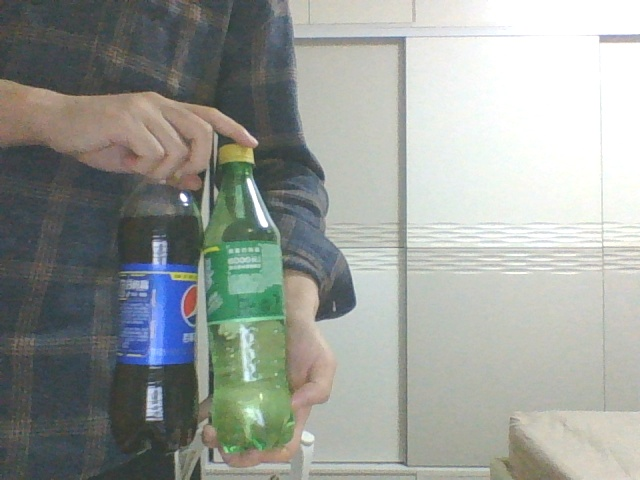Cola: (109, 181, 205, 457)
Sprite: (203, 142, 293, 452)
